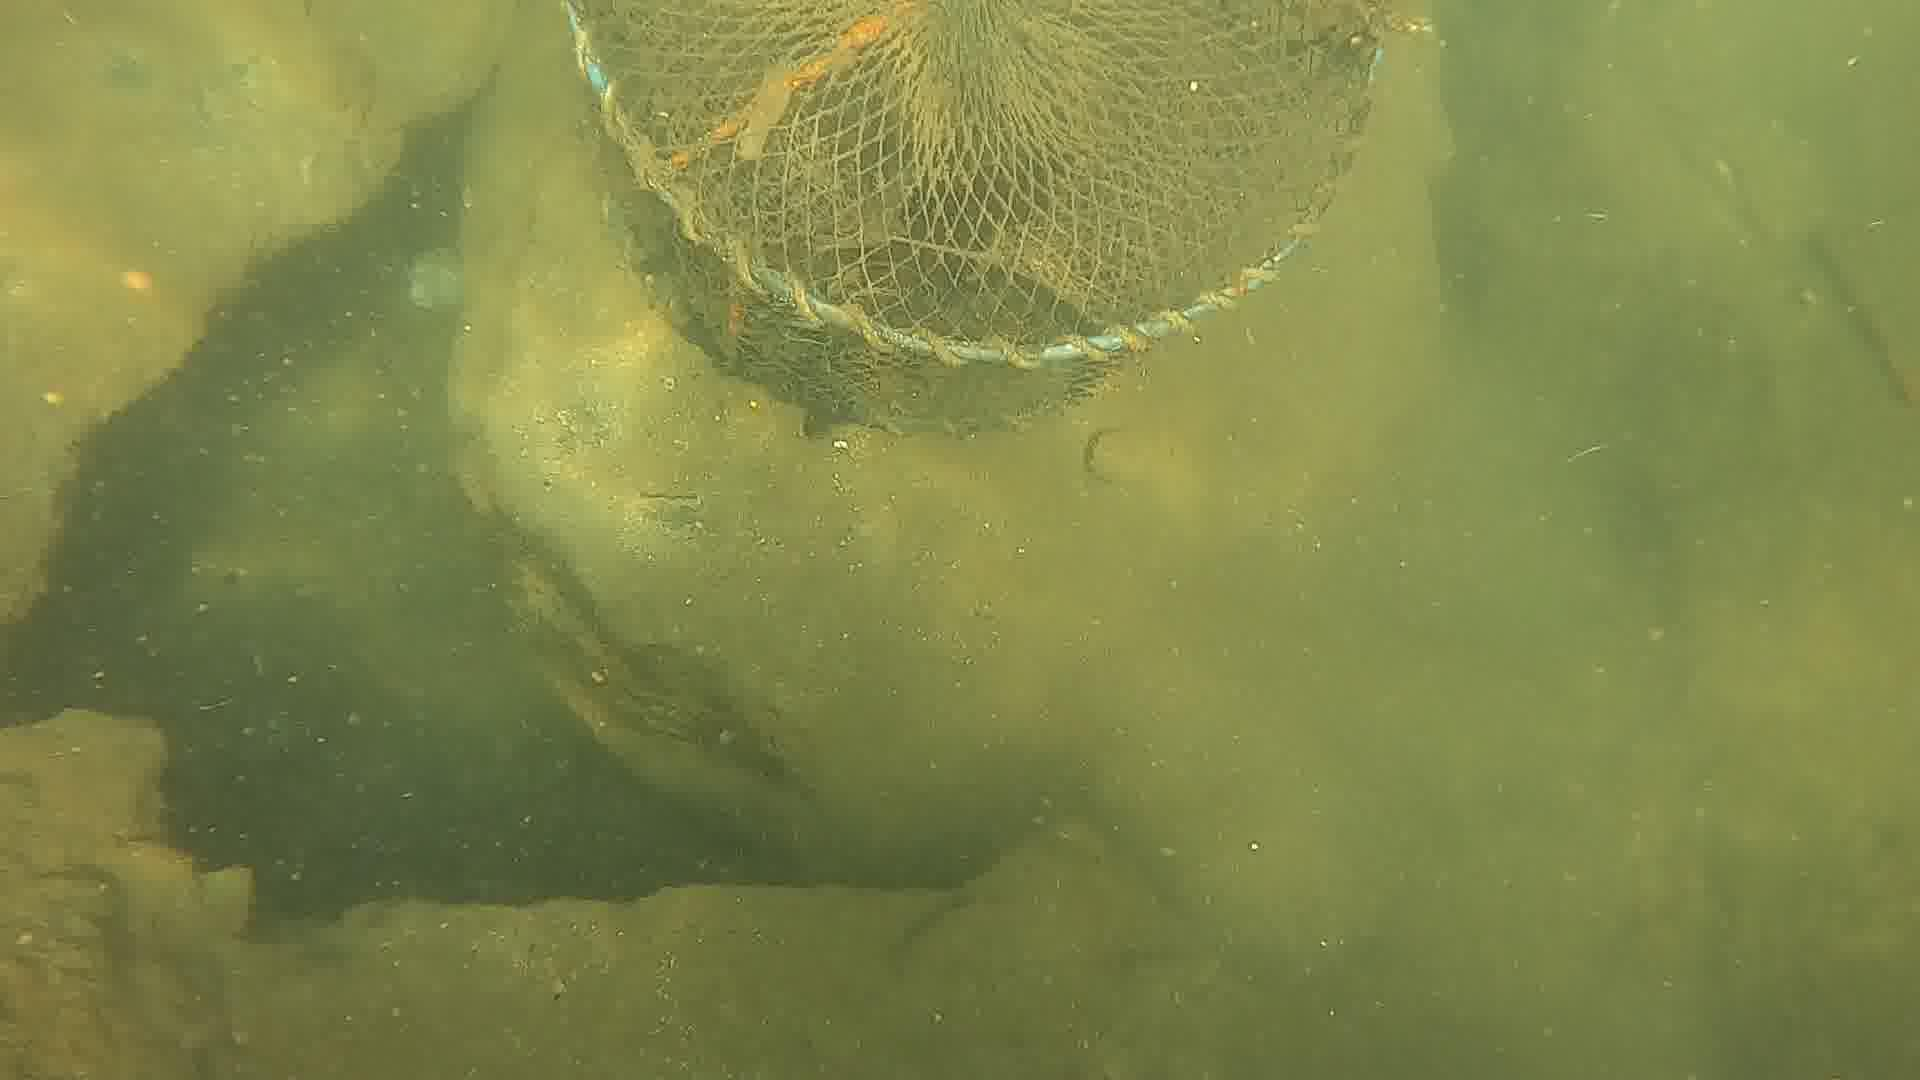circular fish trap: (560, 1, 1379, 430)
